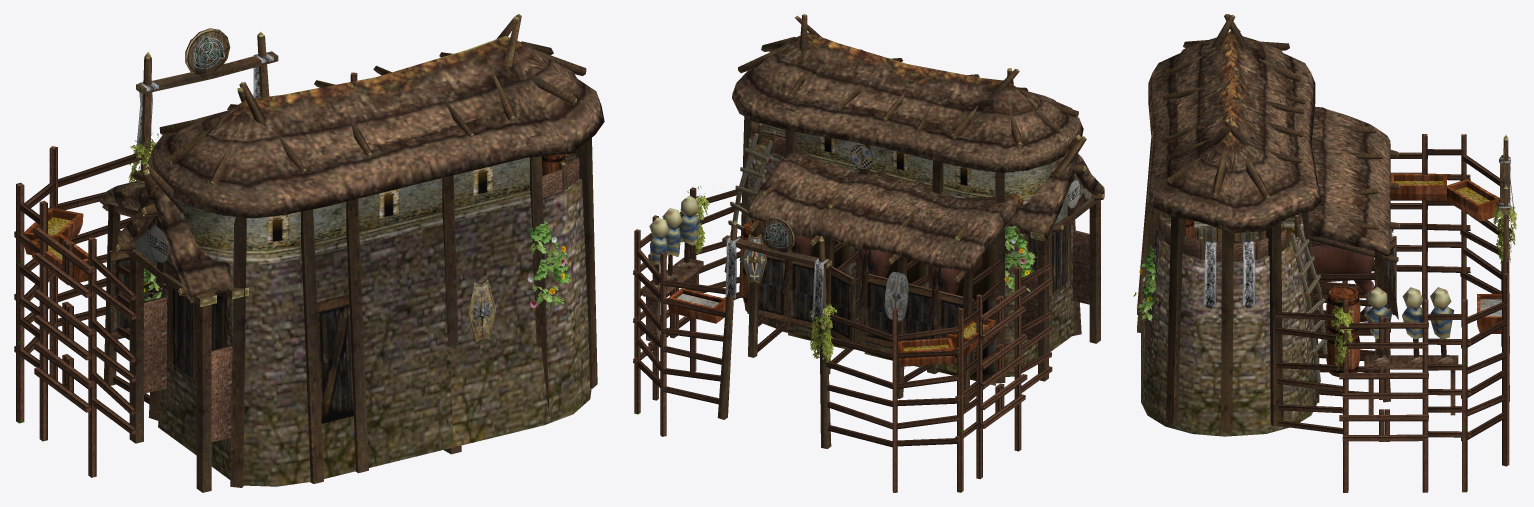
File: s_britons_stable.glb
The picture shows the model from 3 angles, left to right: view 1: azimuth 30°, elevation 25°; view 2: azimuth 150°, elevation 25°; view 3: azimuth 270°, elevation 25°; orthographic projection. The views are drawn at different scales.
Parts seen in each view (by area): view 1: s_britons_stable_part0, s_britons_stable_part1, s_britons_stable_part2; view 2: s_britons_stable_part0, s_britons_stable_part1, s_britons_stable_part2, s_britons_stable_part4, s_britons_stable_part5; view 3: s_britons_stable_part0, s_britons_stable_part2, s_britons_stable_part4.
Part boxes in pixels (x1,y1,x2,y2): s_britons_stable_part0: (14,14,604,492); s_britons_stable_part1: (148,28,575,344); s_britons_stable_part2: (128,133,570,308); s_britons_stable_part0: (633,14,1104,492); s_britons_stable_part1: (742,122,1080,321); s_britons_stable_part2: (687,186,1037,362); s_britons_stable_part4: (791,235,982,294); s_britons_stable_part5: (782,249,940,329); s_britons_stable_part0: (1137,14,1514,492); s_britons_stable_part2: (1133,197,1516,371); s_britons_stable_part4: (1310,245,1374,320).
Bounding box in the file's own units: 4.2 × 3.73 × 3.8.
6 materials, 6 textured.
